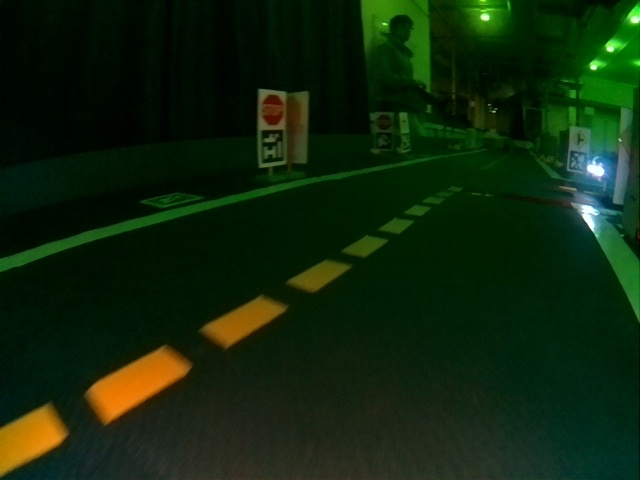Intersection sign: (570, 130, 586, 147)
QR code: (140, 192, 203, 208), (259, 129, 285, 162), (569, 150, 587, 171), (376, 133, 391, 149), (401, 135, 410, 151)
Stop sign: (260, 93, 286, 127), (375, 114, 393, 130)
